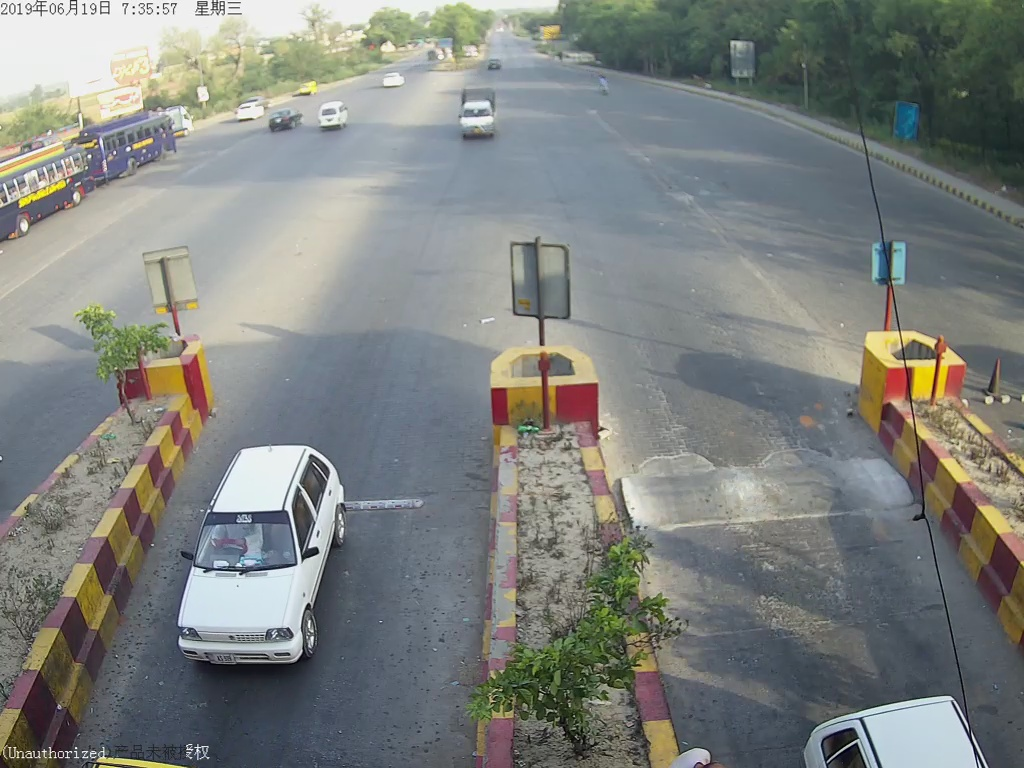Cat-1: (178, 444, 367, 668)
Cat-2: (451, 79, 500, 144)
